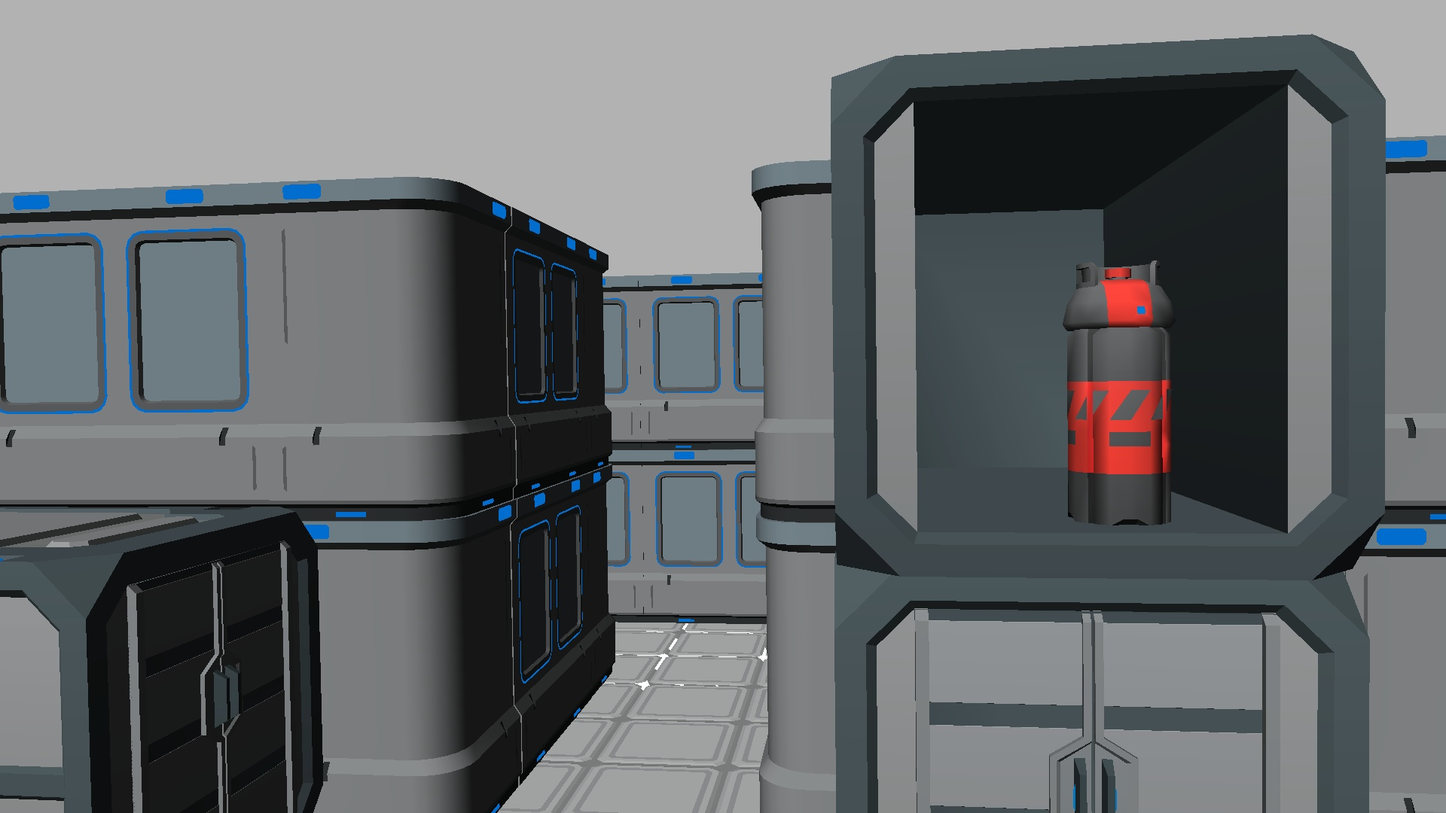red barrel: (1063, 261, 1172, 527)
